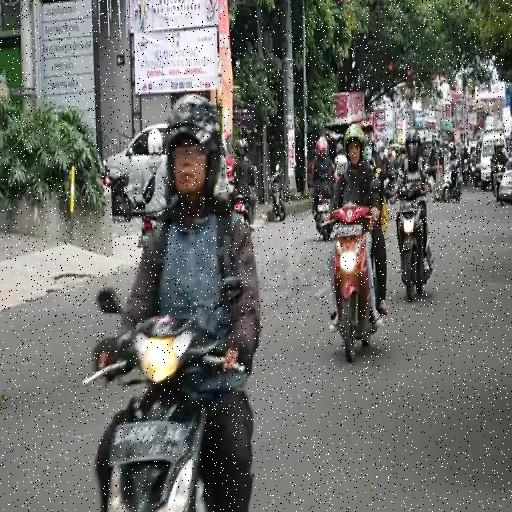Helmet: (154, 100, 220, 206), (336, 119, 373, 167), (406, 124, 426, 162)
Motor: (89, 295, 225, 508), (329, 201, 381, 359), (390, 188, 436, 297)
